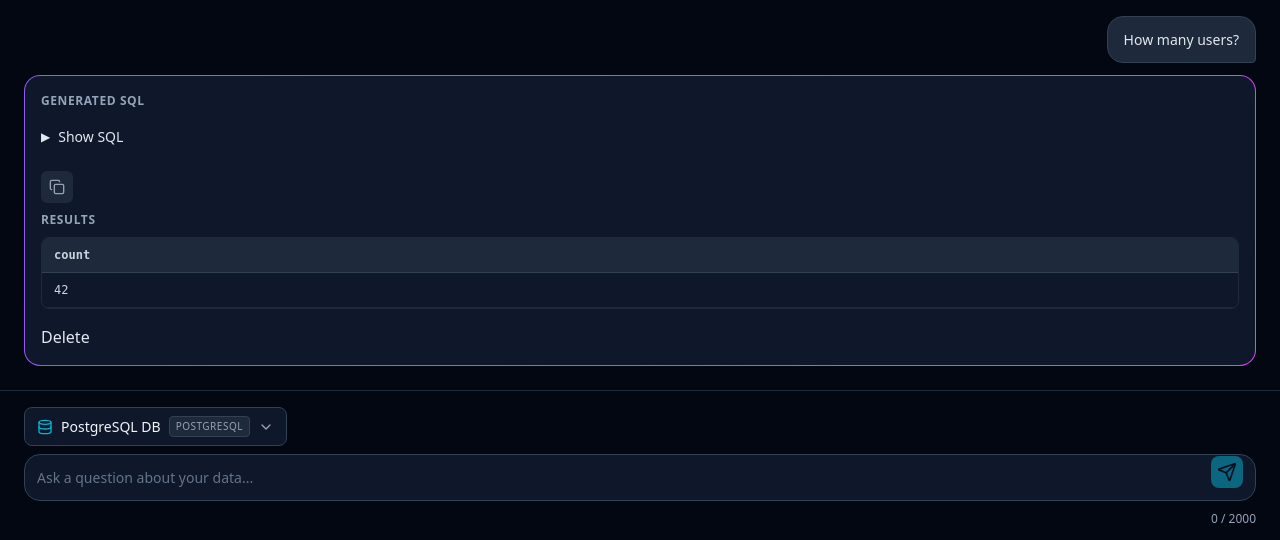
WorkspacePage first-submit UX › optimistically removes historical (session-loaded) turn on delete
Expected: the element with test id "assistant-response-card" is shown, [24, 75, 1256, 366]
Step 1. Click the button with test id "action-delete-result" → (65, 337), box [41, 325, 90, 349]
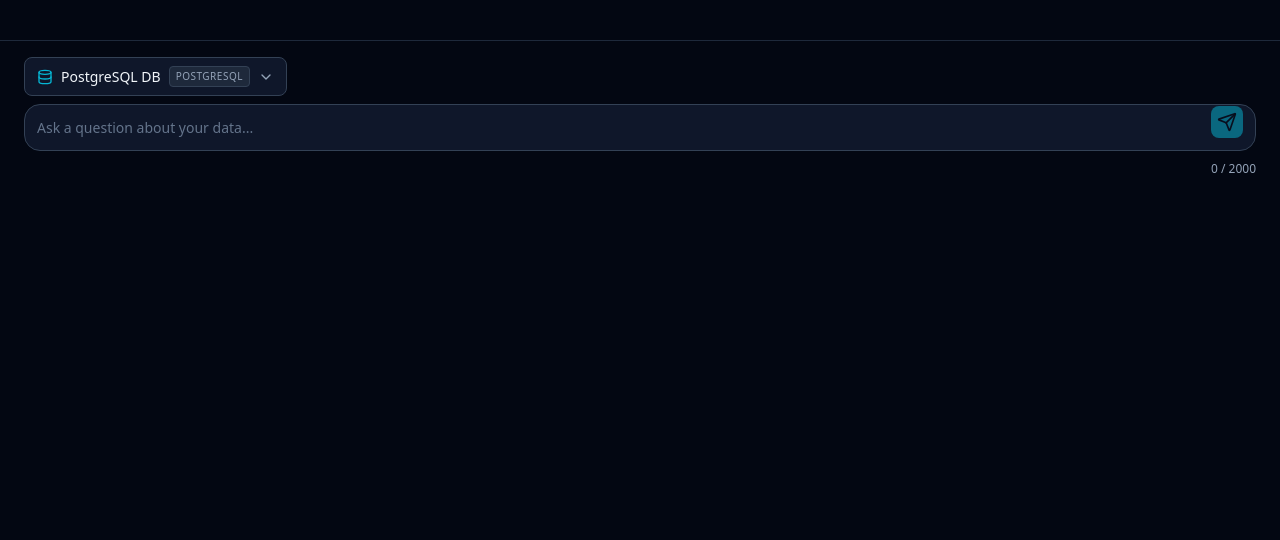
Expected: the element with test id "assistant-response-card" is gone
